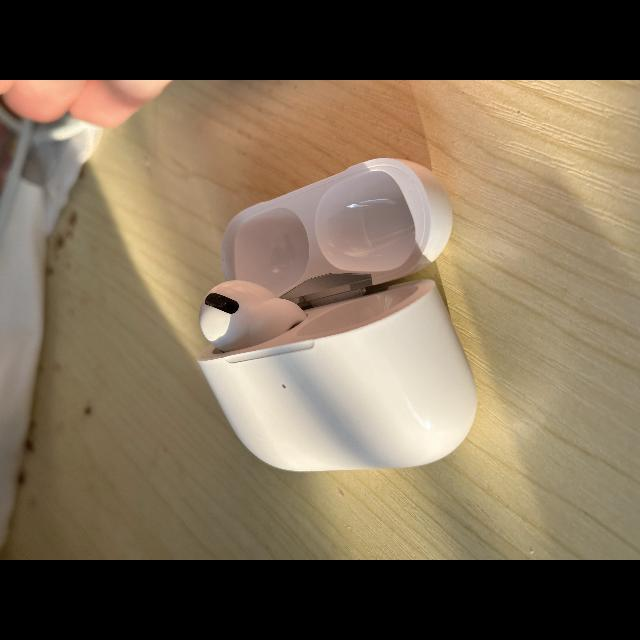AirPods Pro: (197, 157, 477, 471)
